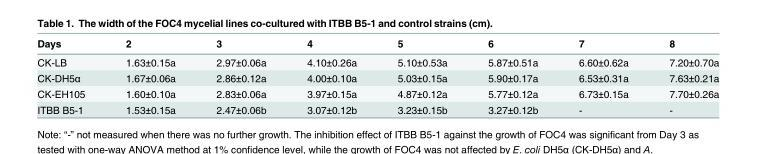table: (36, 36, 718, 115)
table column: (104, 36, 195, 115), (285, 36, 376, 115), (466, 36, 557, 115), (557, 36, 648, 115), (195, 36, 285, 115), (376, 36, 466, 115), (648, 36, 718, 115), (36, 36, 104, 115)
table column header: (36, 36, 718, 52)
table row: (36, 52, 718, 69), (36, 36, 718, 52), (36, 69, 718, 85), (36, 85, 718, 101), (36, 101, 718, 115)
